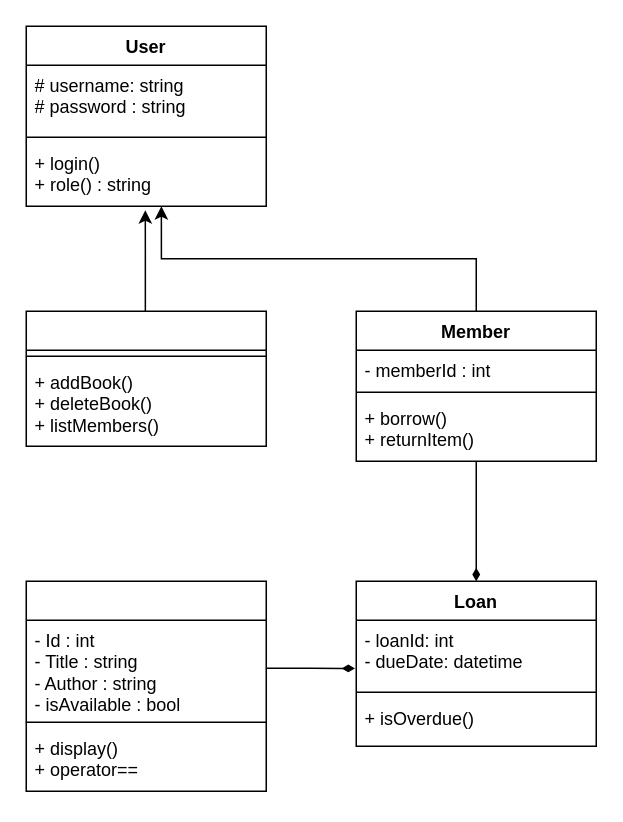
Image size: 623x822. Some labels were removed from this diagram. The shapes that lost their labels are listed below. From the top down, each one's box as (x1, y1, x2, y2) in pixels, then its label:
(25, 310, 266, 446): Admin
(25, 580, 266, 791): Book
